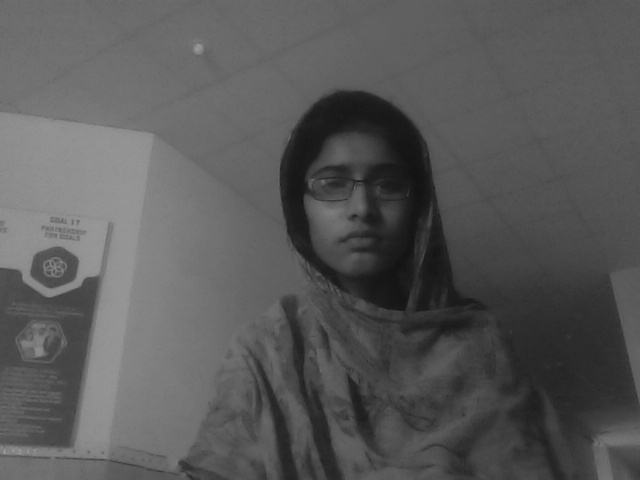Face: (134, 1, 525, 381)
